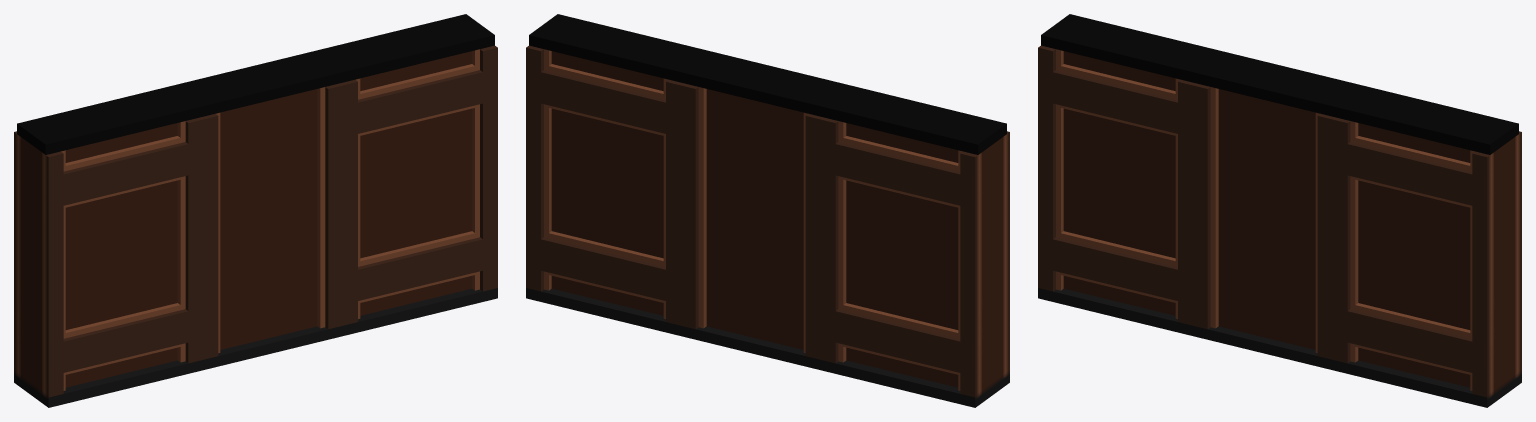
Rendered from Wall-Wood-Model-04.fbx.
3 views of the same model, side by side, from view 1: azimuth 30°, elevation 25°; view 2: azimuth 150°, elevation 25°; view 3: azimuth 330°, elevation 25° (orthographic).
Visible parts, largest first — view 1: Wall-Wood-Model-04; view 2: Wall-Wood-Model-04; view 3: Wall-Wood-Model-04.
Boxes of the visible parts, x1,y1,x2,y2 form: Wall-Wood-Model-04: (14,14,497,407); Wall-Wood-Model-04: (526,14,1009,407); Wall-Wood-Model-04: (1038,14,1521,407).
Bounding box in the file's own units: 90 × 50 × 12.
Materials: 1 (1 with a texture image).
